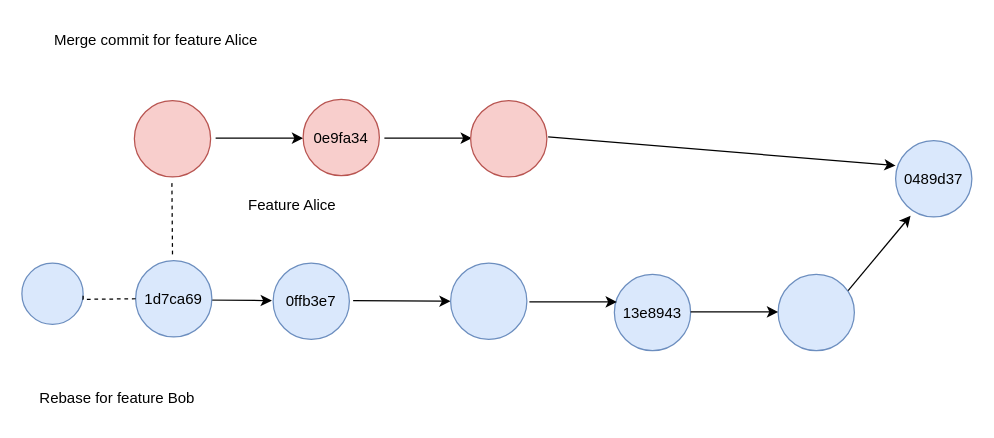
Some shapes in this 994 by 438 pixel diagram are drawn without their labels. Each missing label, with the centre of its shape:
2a2cf8d: point 508,138
93be5d2: point 488,300
b26abd5: point 815,312
